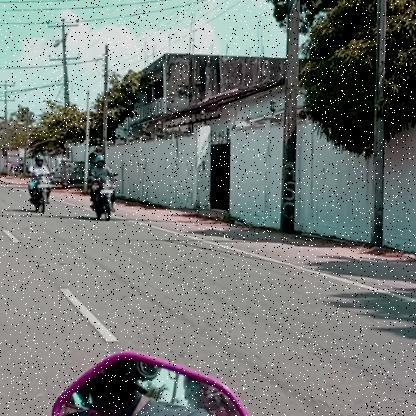motorcycle: (86, 176, 122, 223), (23, 173, 57, 216)
